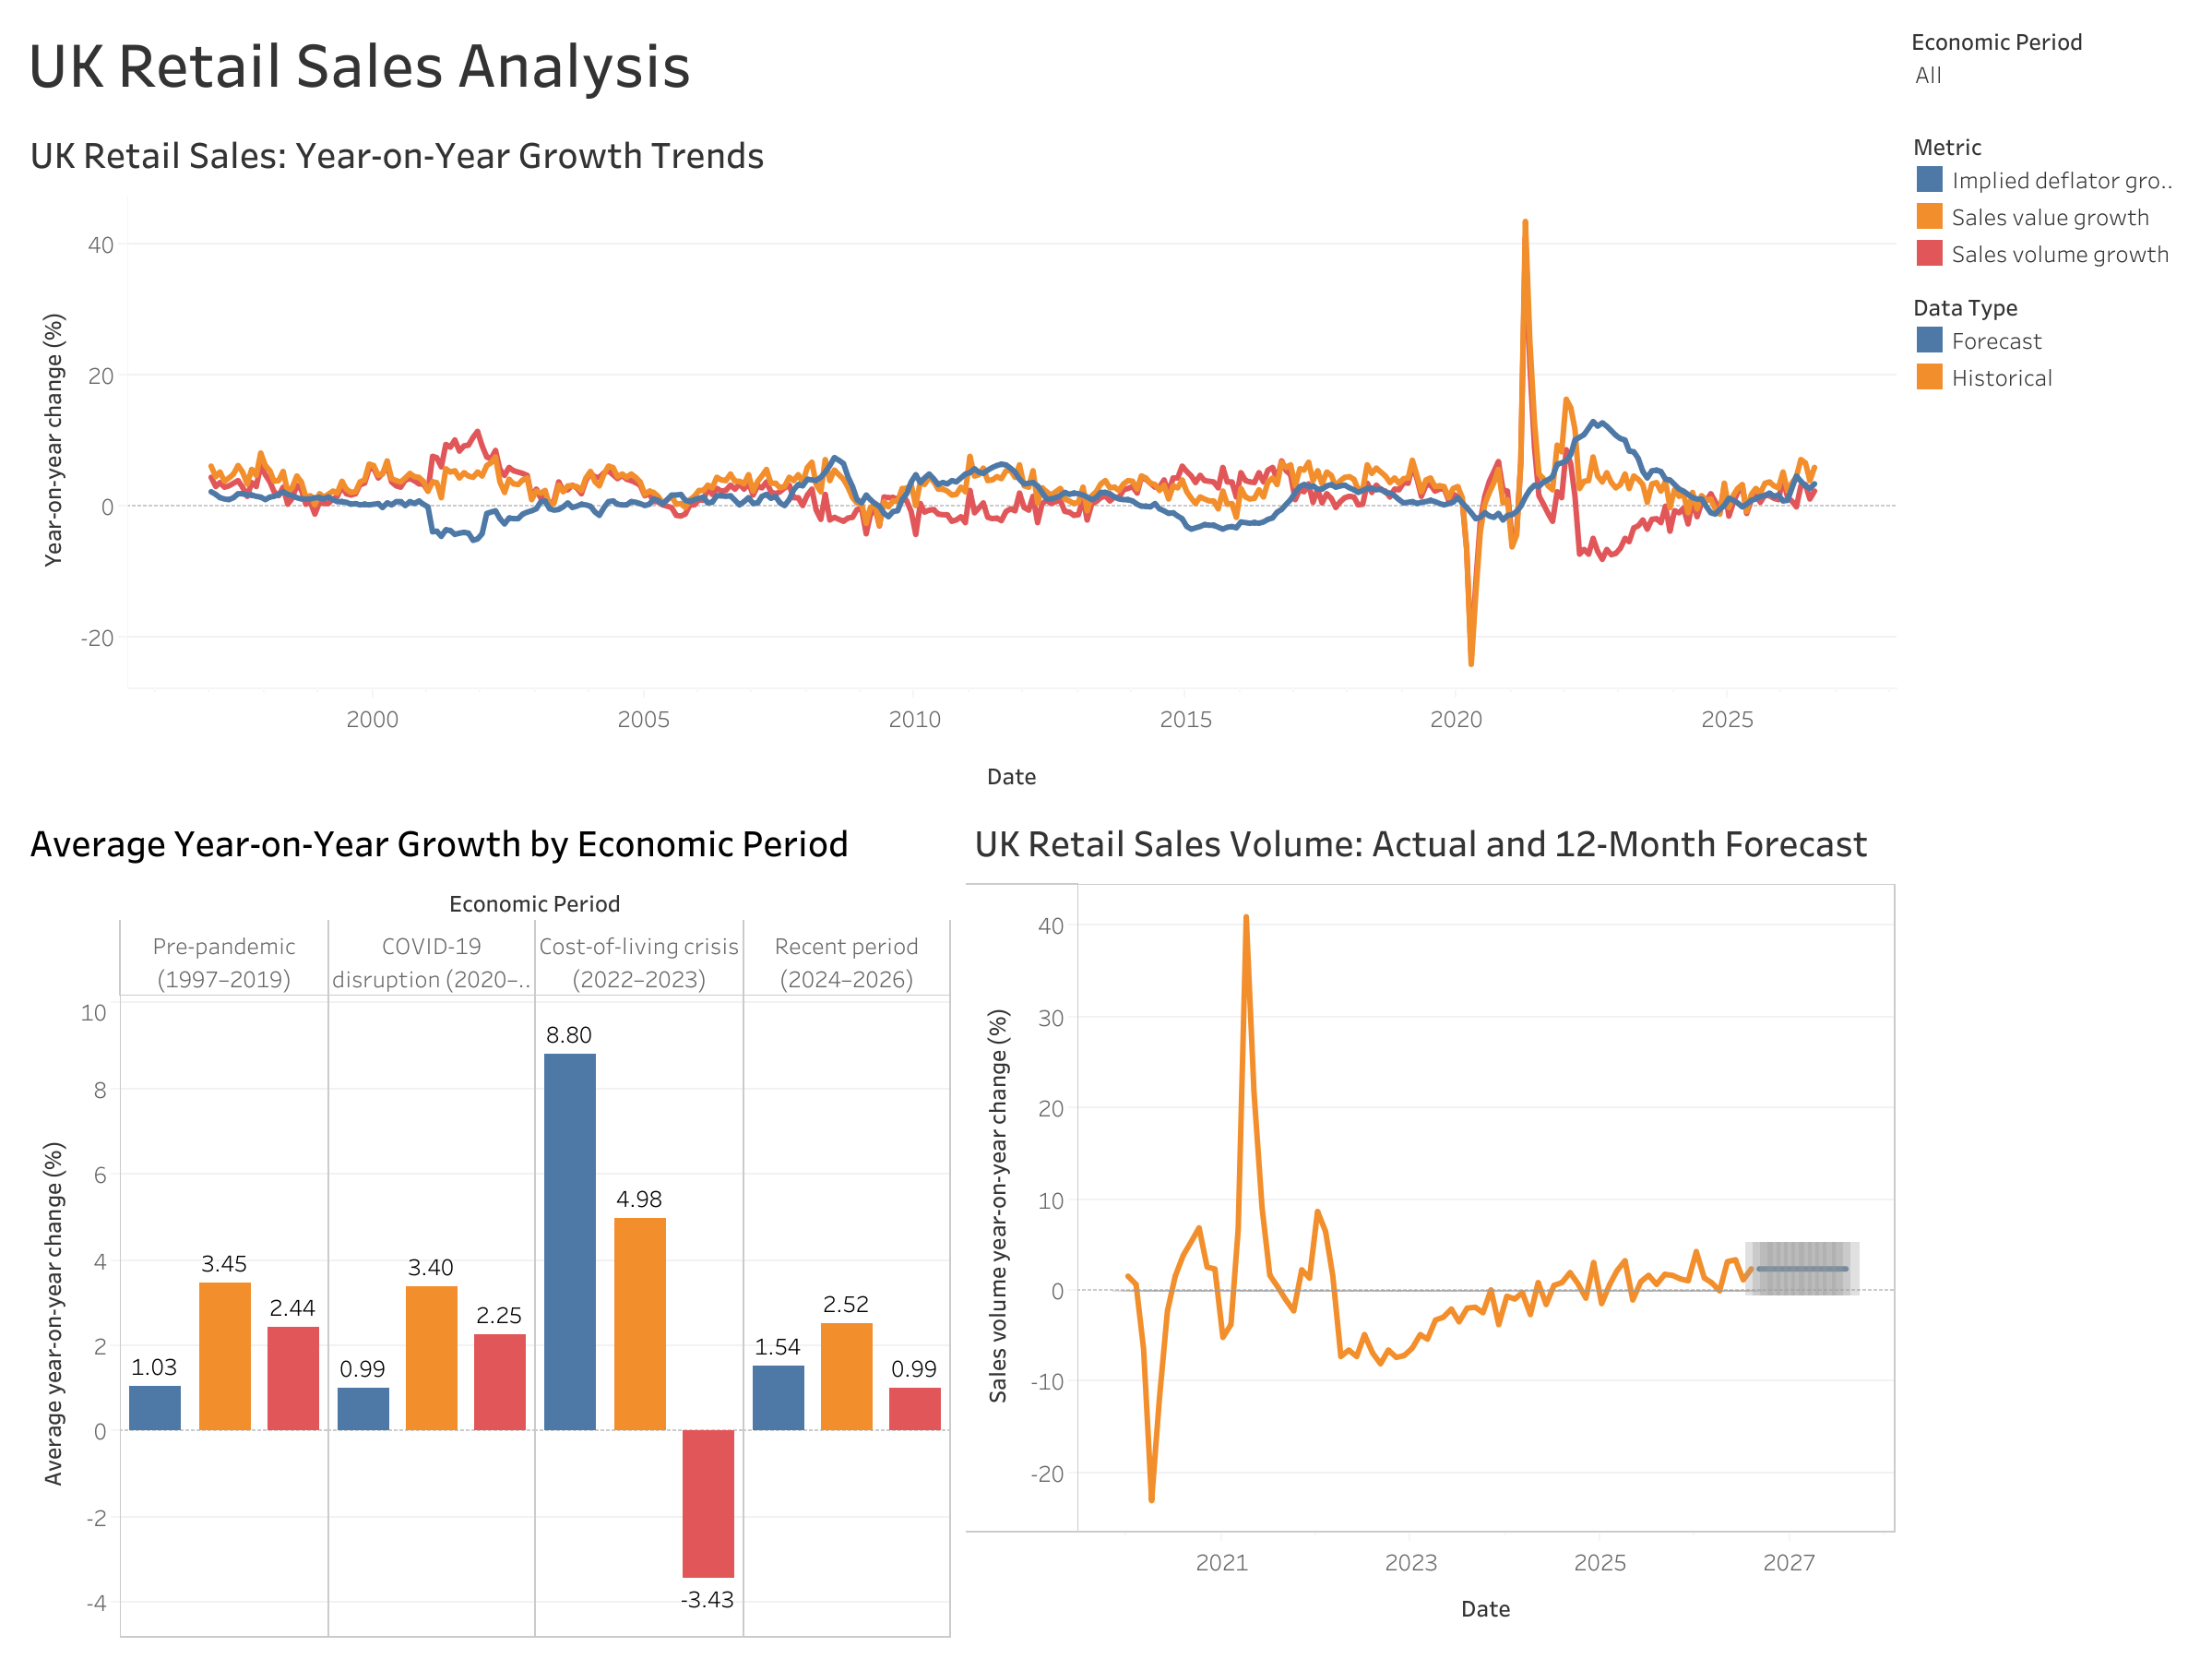

The page's visual inventory and layout, read from the dashboard file:
{"tool":"tableau","page":{"name":"UK Retail Sales Dashboard","canvas":[1200,900],"ordinal":0},"visuals":[{"type":"title","box":[8,8,1024,52]},{"type":"filter","title":"Metric Trends","param":"[federated.0bjei6d0hc9mxy1d38hxn0144v84].[none:economic_period:nk]","box":[1032,8,160,52]},{"type":"worksheet","title":"Metric Trends","mark":"Automatic","rows":["percentage"],"cols":["date"],"box":[8,60,1024,373]},{"type":"legend","title":"Metric Trends","param":"[federated.0bjei6d0hc9mxy1d38hxn0144v84].[none:metric:nk]","box":[1032,60,160,86]},{"type":"legend","title":"Sales Volume Forecast","param":"[federated.1e1s4bp12yg7xm1d10a72158dp95].[none:data_type:nk]","box":[1032,146,160,66]},{"type":"worksheet","title":"Period Comparison","mark":"Automatic","rows":["percentage"],"cols":["economic_period","metric"],"box":[8,433,512,459]},{"type":"worksheet","title":"Sales Volume Forecast","mark":"Automatic","rows":["plot_value_pct","lower_95_pct"],"cols":["date"],"box":[520,433,512,459]}]}

Visuals, with their boxes in screenshot pixels (x1, y1, x2, y2), scaled from the page's 1200x900 canvas onto the 2212x1659 screenshot:
title: x1=15, y1=15, x2=1902, y2=111
"Metric Trends" filter: x1=1902, y1=15, x2=2197, y2=111
"Metric Trends" worksheet: x1=15, y1=111, x2=1902, y2=798
"Metric Trends" legend: x1=1902, y1=111, x2=2197, y2=269
"Sales Volume Forecast" legend: x1=1902, y1=269, x2=2197, y2=391
"Period Comparison" worksheet: x1=15, y1=798, x2=958, y2=1644
"Sales Volume Forecast" worksheet: x1=958, y1=798, x2=1902, y2=1644
